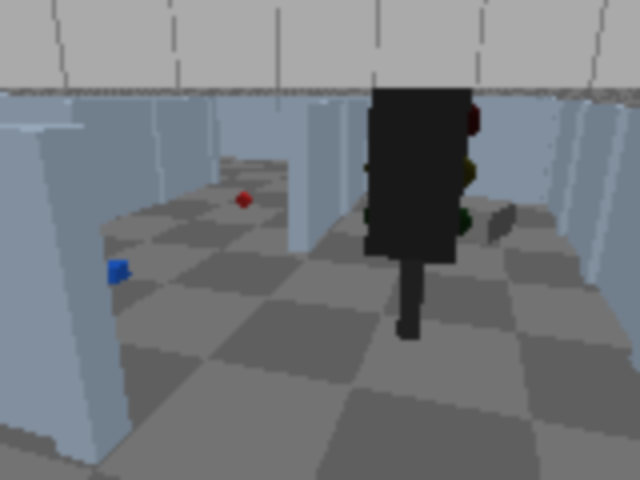puck: (100, 260, 130, 283), (233, 190, 255, 210)
traffic_light: (362, 71, 474, 362)
